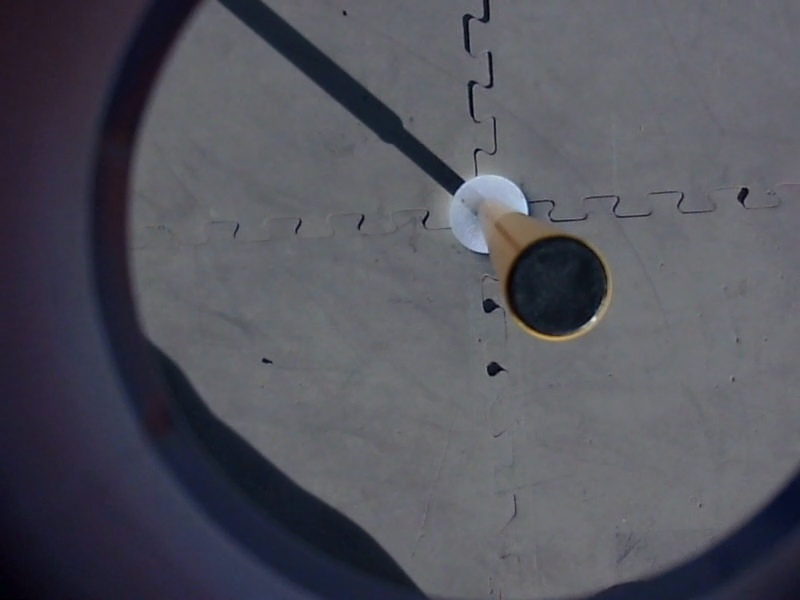tip: (496, 229, 620, 350)
